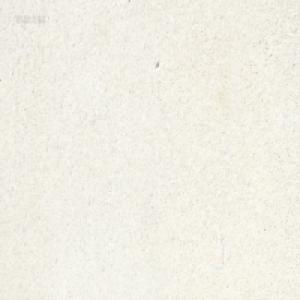Wrench: (199, 0, 206, 5)
